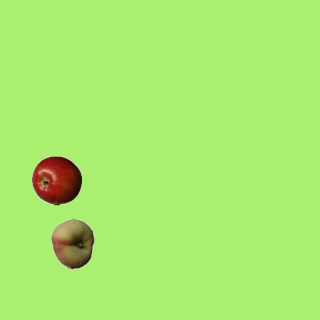Apple Braeburn: (31, 155, 81, 205)
Peach Flat: (47, 218, 97, 268)
